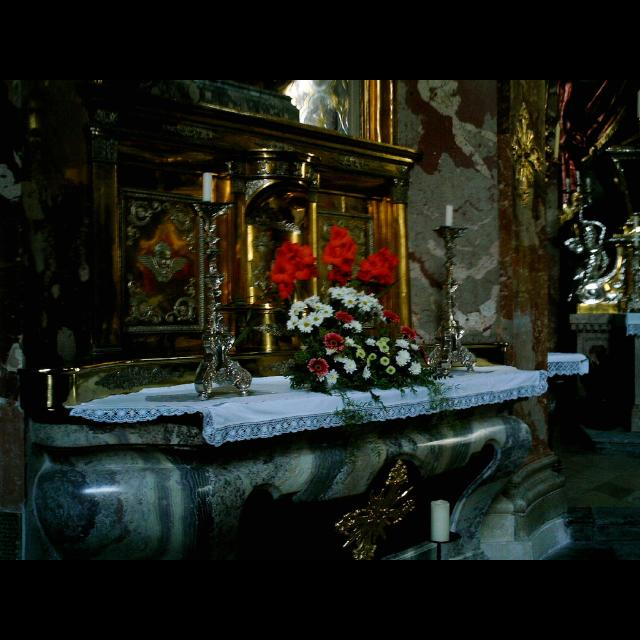Flower: (285, 284, 429, 394), (269, 240, 321, 296), (356, 247, 406, 290), (327, 221, 358, 287)
